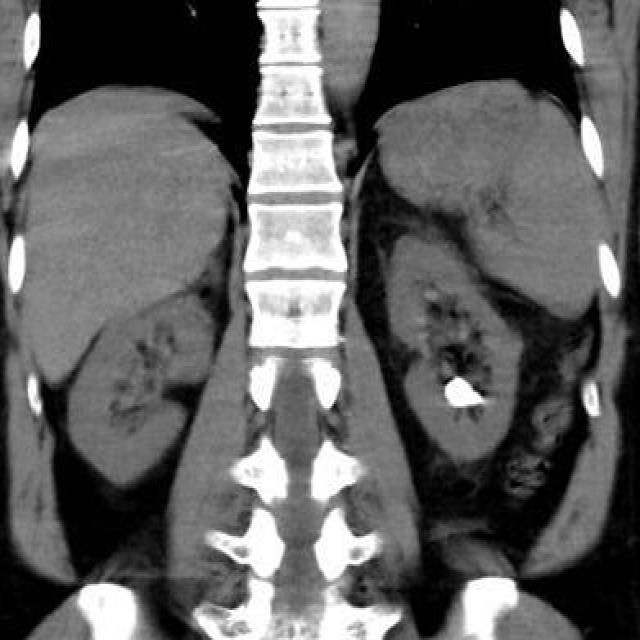Tas_Var: (444, 372, 484, 414)
